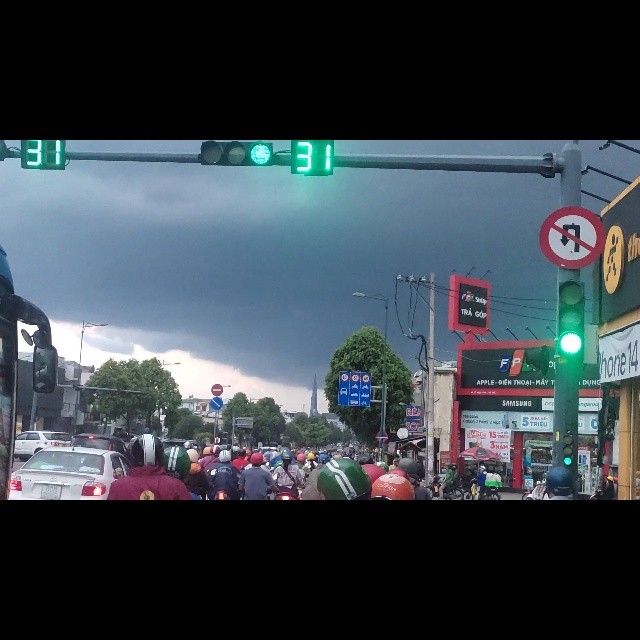bien_cam: (538, 116, 604, 228), (338, 409, 371, 473), (210, 456, 224, 481), (211, 433, 223, 455)
